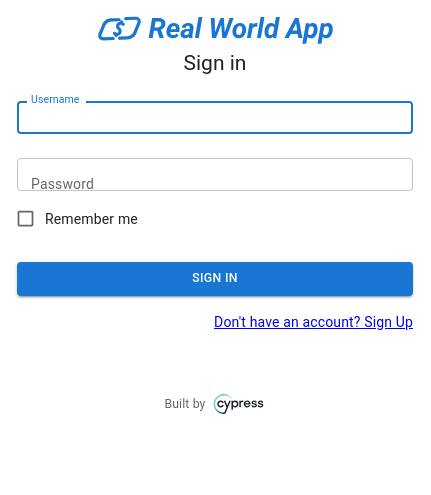
template spec › Login Fail
Type "Test" into the field named "username" at [215, 118], box [17,101,413,134]
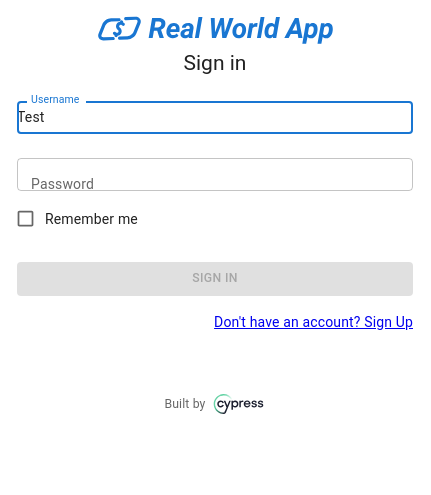
Type "test" into the password field named "password" at [215, 175], box [17,158,413,191]
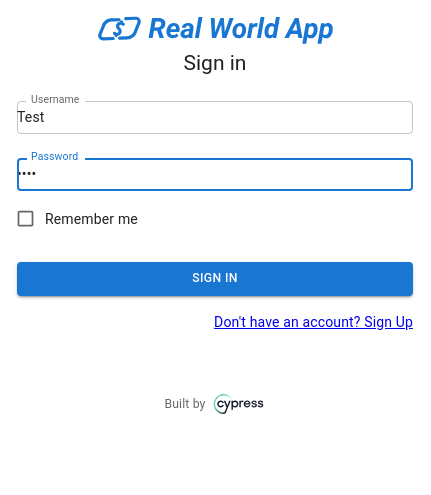
Click the submit button at [215, 279], box [17,262,413,295]
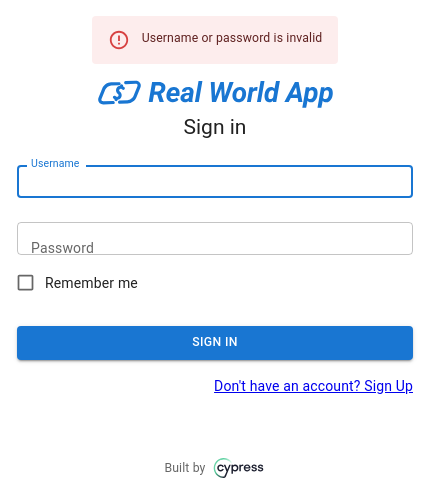
Now the message "Username or password is invalid" is shown, box [92,16,338,64]
